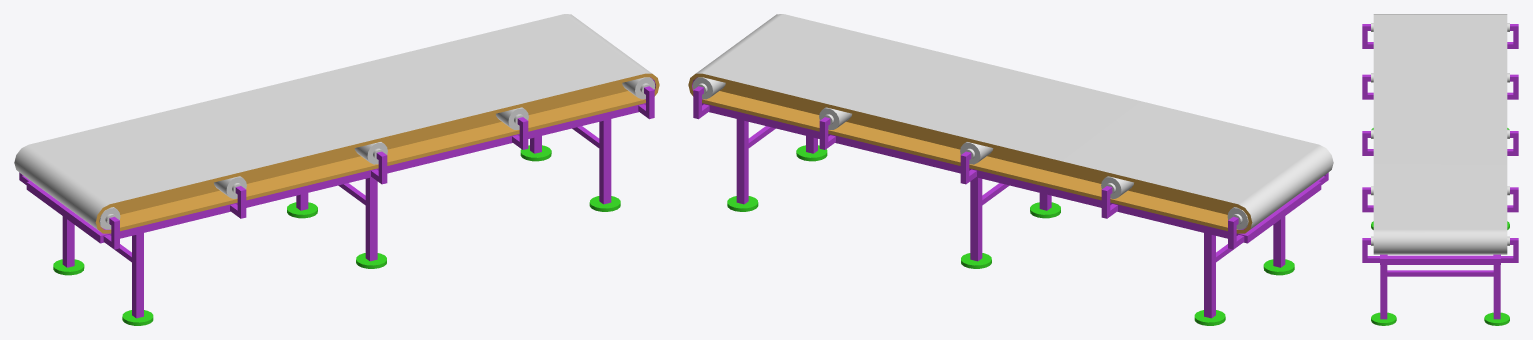
Rendered from mesh_flatConveyorBelt_long.fbx.
3 renders of one model, left to right at view 1: azimuth 30°, elevation 25°; view 2: azimuth 150°, elevation 25°; view 3: azimuth 270°, elevation 25°, orthographic. The views are drawn at different scales.
Parts seen in each view (by area): view 1: mesh_conveyorBelt02; view 2: mesh_conveyorBelt02; view 3: mesh_conveyorBelt02.
Part boxes in pixels (x1,y1,x2,y2): mesh_conveyorBelt02: [14, 14, 659, 325]; mesh_conveyorBelt02: [688, 14, 1333, 325]; mesh_conveyorBelt02: [1362, 14, 1518, 325].
Bounding box in the file's own units: 400 × 86.71 × 117.
